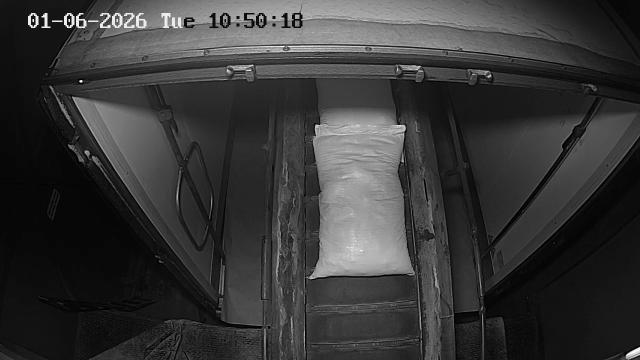bag: (309, 125, 416, 280), (316, 78, 404, 162)
